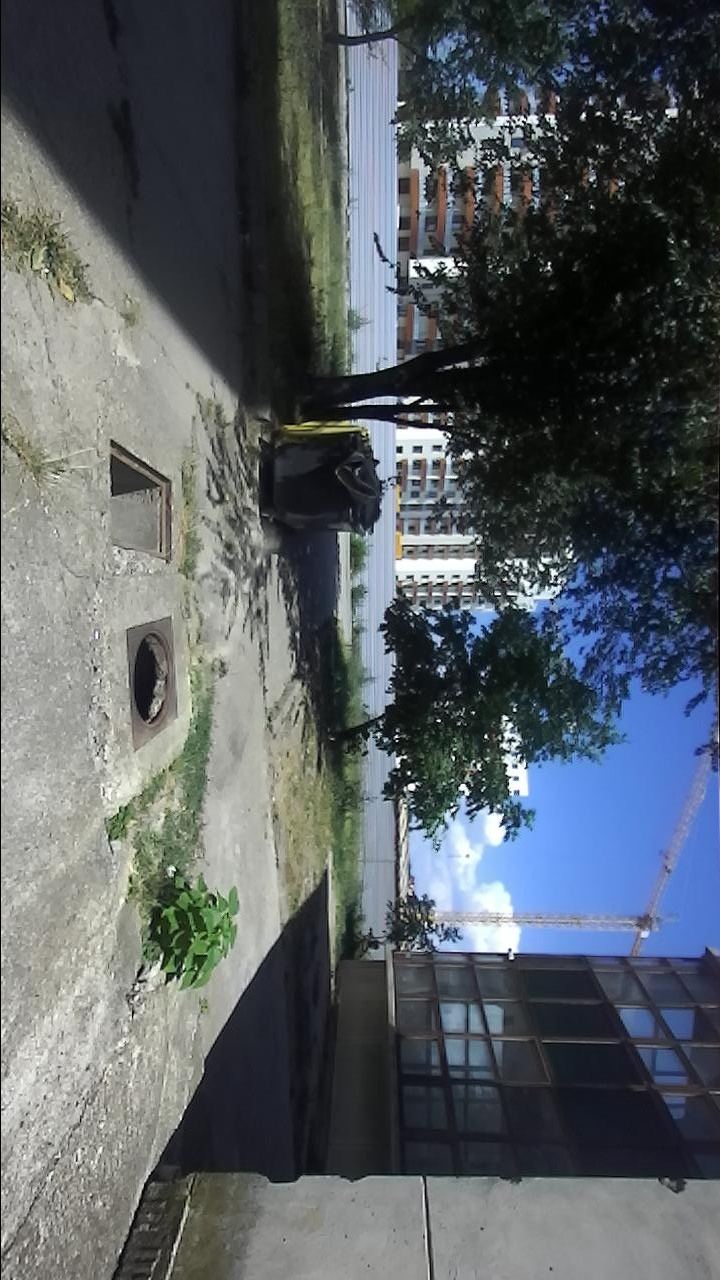drain: (104, 437, 175, 565), (131, 629, 177, 733)
